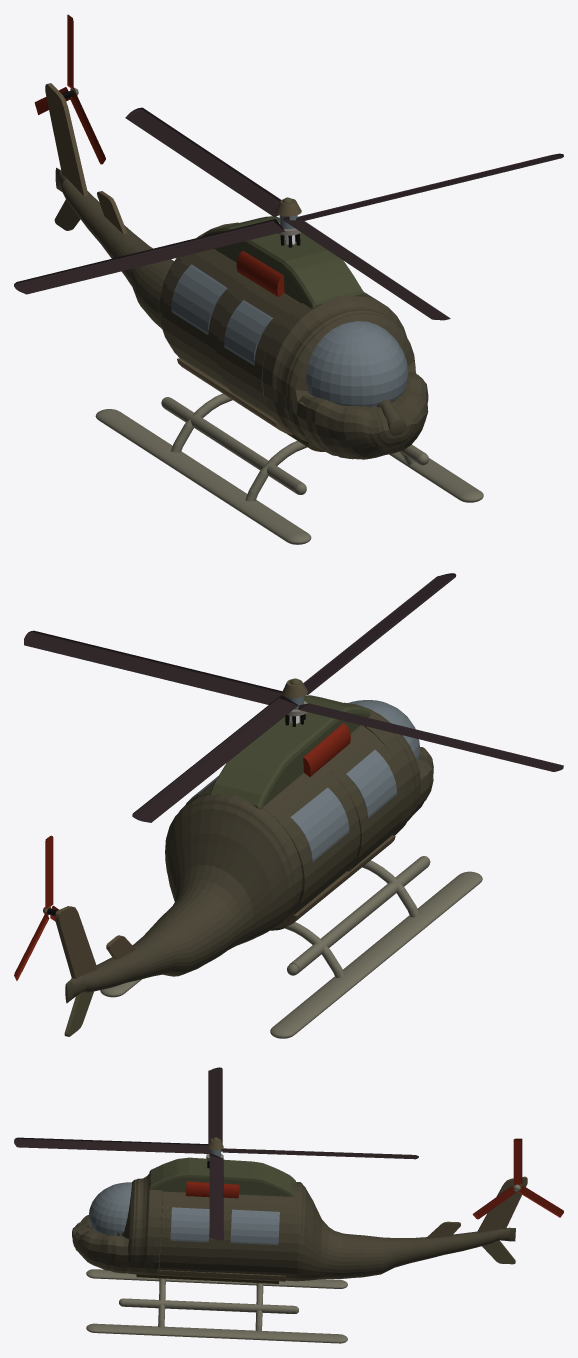
The model's file is helcopter_idle.blend1.fbx.
3 renders of one model, top to bottom at view 1: azimuth 30°, elevation 25°; view 2: azimuth 150°, elevation 25°; view 3: azimuth 270°, elevation 25°, orthographic. The views are drawn at different scales.
Parts seen in each view (by area): view 1: 円柱.005, 円柱.028, 球.010, 立方体, 円柱.018, 円柱.019, 円柱.004, 円柱.014, 円柱.017, 立方体.004, 円柱.003, 円柱.013 (+6 smaller); view 2: 円柱.019, 円柱.028, 立方体, 円柱.018, 円柱.004, 円柱.014, 円柱.005, 円柱.017, 円柱.003, 円柱.013, 立方体.004, 円柱.012 (+6 smaller); view 3: 円柱.019, 円柱.016, 円柱.028, 円柱.005, 円柱.011, 立方体, 円柱.001, 球.010, 円柱, 円柱.012, 円柱.004, 立方体.004 (+5 smaller).
Boxes of the visible parts, x1,y1,x2,y2 form: 円柱.005: (262,293,428,459); 円柱.028: (14,107,563,320); 球.010: (306,321,408,407); 立方体: (202,216,364,309); 円柱.018: (162,249,251,387); 円柱.019: (55,167,238,347); 円柱.004: (98,411,307,541); 円柱.014: (216,281,301,418); 円柱.017: (171,264,227,334); 立方体.004: (45,83,88,196); 円柱.003: (163,397,303,494); 円柱.013: (224,300,273,365); 円柱.019: (65,794,302,1003); 円柱.028: (24,573,563,822); 立方体: (210,695,370,809); 円柱.018: (262,766,360,928); 円柱.004: (273,874,480,1034); 円柱.014: (324,725,405,871); 円柱.005: (344,702,433,835); 円柱.017: (290,787,349,862); 円柱.003: (289,856,429,973); 円柱.013: (346,750,396,818); 立方体.004: (55,906,97,978); 円柱.012: (14,835,83,980); 円柱.019: (287,1182,515,1281); 円柱.016: (217,1194,293,1280); 円柱.028: (14,1067,418,1240); 円柱.005: (72,1174,162,1275); 円柱.011: (159,1191,218,1272); 立方体: (149,1157,295,1200); 円柱.001: (94,1323,338,1343); 球.010: (88,1182,131,1236); 円柱: (123,1298,294,1313); 円柱.012: (472,1138,563,1219); 円柱.004: (94,1269,338,1288); 立方体.004: (477,1176,527,1232).
Size of the model in its own units: 749 by 366 by 1012.
